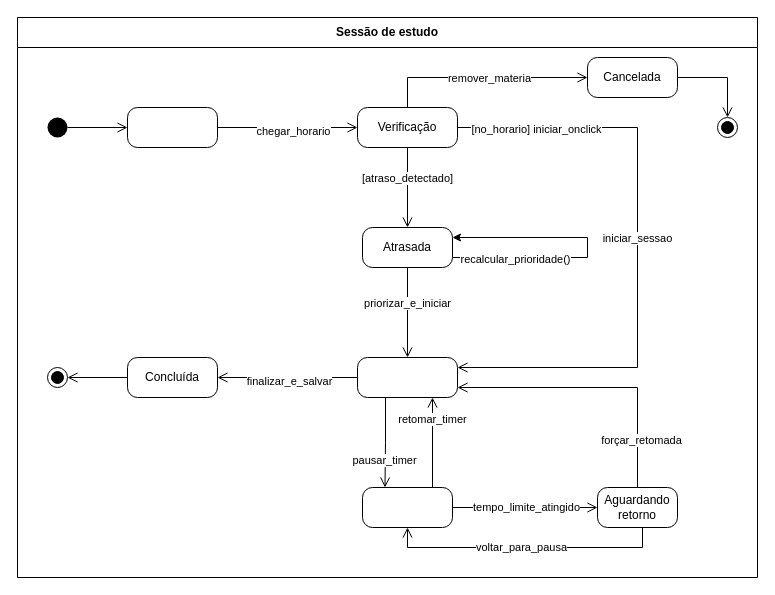
The diagram is 775 pixels wide and 595 high, and some of its shapes have lost their labels. The centre of each missing label's shape, as x and y in pixels:
Agendada: (x=172, y=127)
Em execução: (x=407, y=377)
Pausada: (x=407, y=507)
